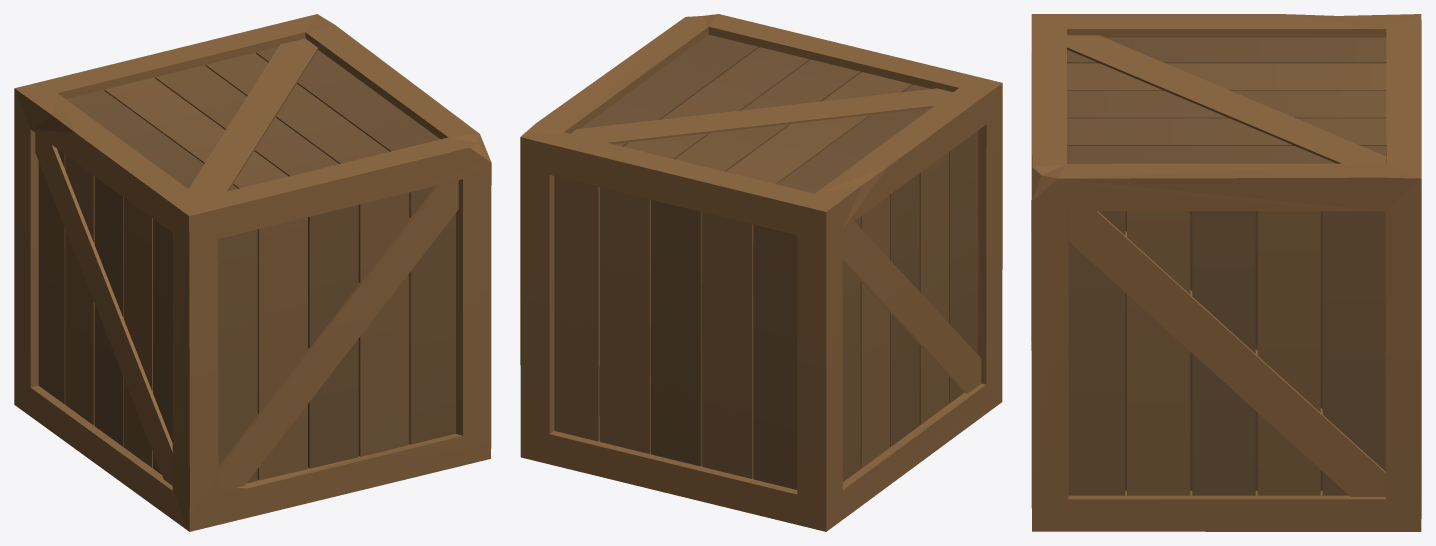
3 renders of one model, left to right at view 1: azimuth 30°, elevation 25°; view 2: azimuth 150°, elevation 25°; view 3: azimuth 270°, elevation 25°, orthographic. The views are drawn at different scales.
Visible parts, largest first — view 1: Box_02; view 2: Box_02; view 3: Box_02.
Part boxes in pixels (x1,y1,x2,y2): Box_02: (14, 14, 491, 531); Box_02: (520, 14, 1002, 531); Box_02: (1031, 14, 1421, 531).
Bounding box in the file's own units: 0.9163 × 0.9166 × 0.9132.
1 material, 1 textured.
